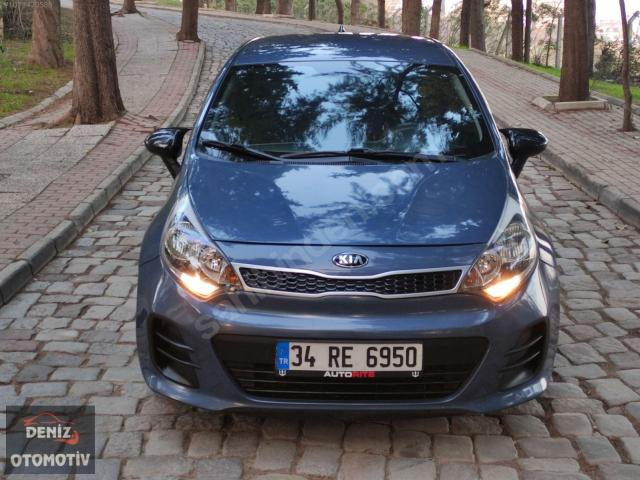plaka: (276, 342, 423, 377)
